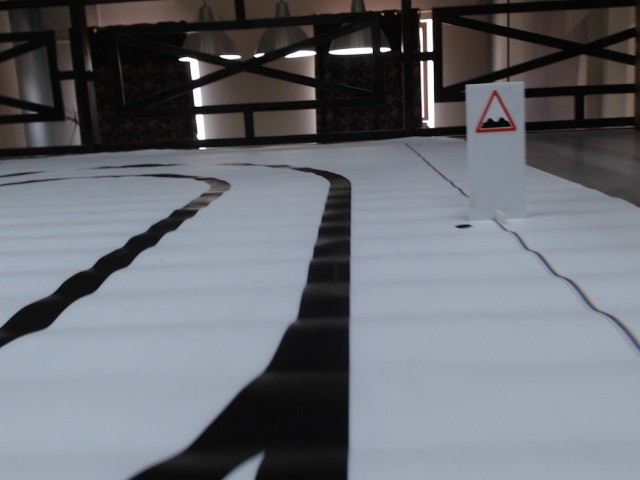Nerov: (474, 90, 520, 135)
